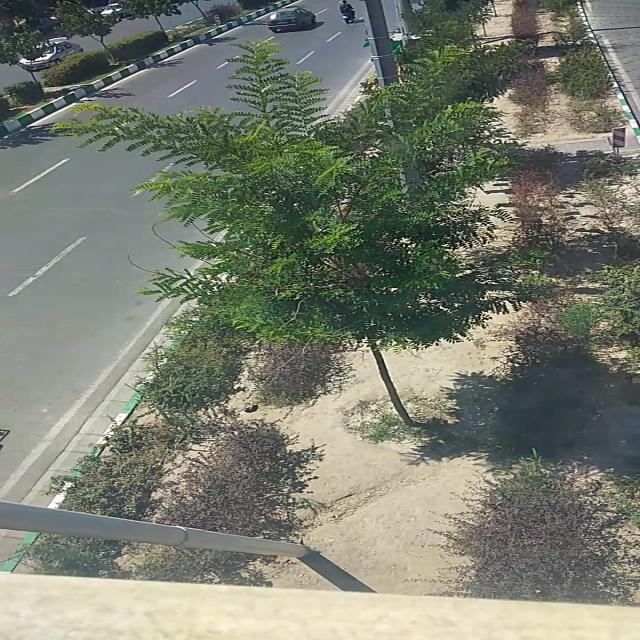car: (18, 40, 79, 72), (266, 8, 314, 34)
motor: (337, 2, 361, 28)
